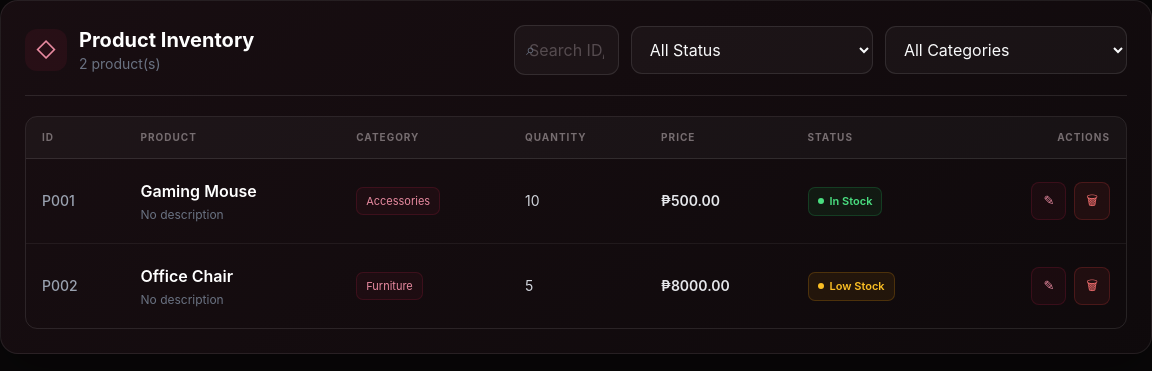
Scenario: Inventory Management System › should filter products when searching by category
This screenshot has width=1152, height=371.
In the field with placeholder "Search ID, name, or category...": x=566, y=50 [514, 25, 619, 75], type "Furniture"
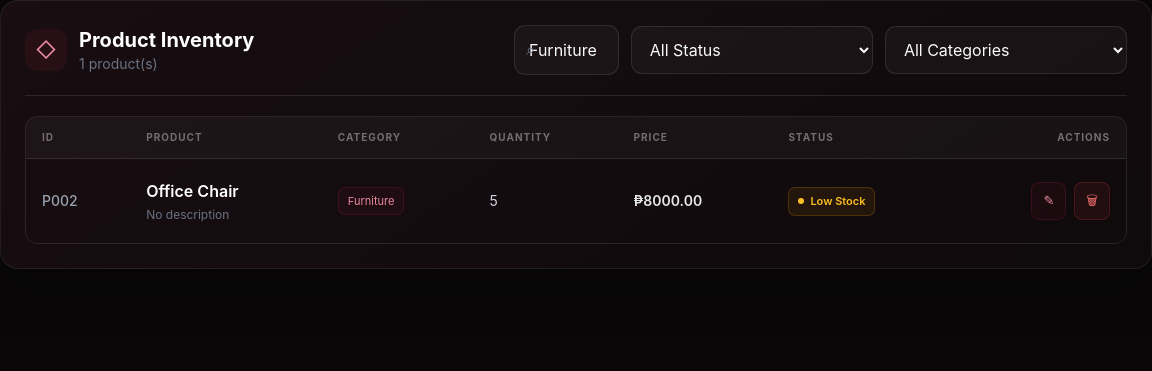
Check: the text "Office Chair" is shown, box [146, 181, 239, 201]
Check: the text "Gaming Mouse" is gone
